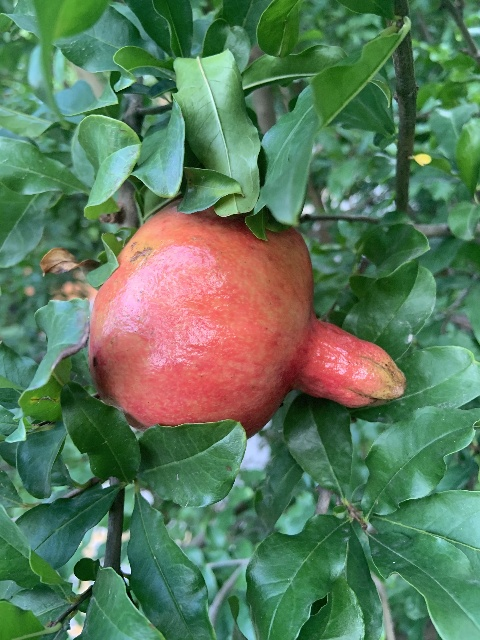ripe: (89, 200, 408, 441)
